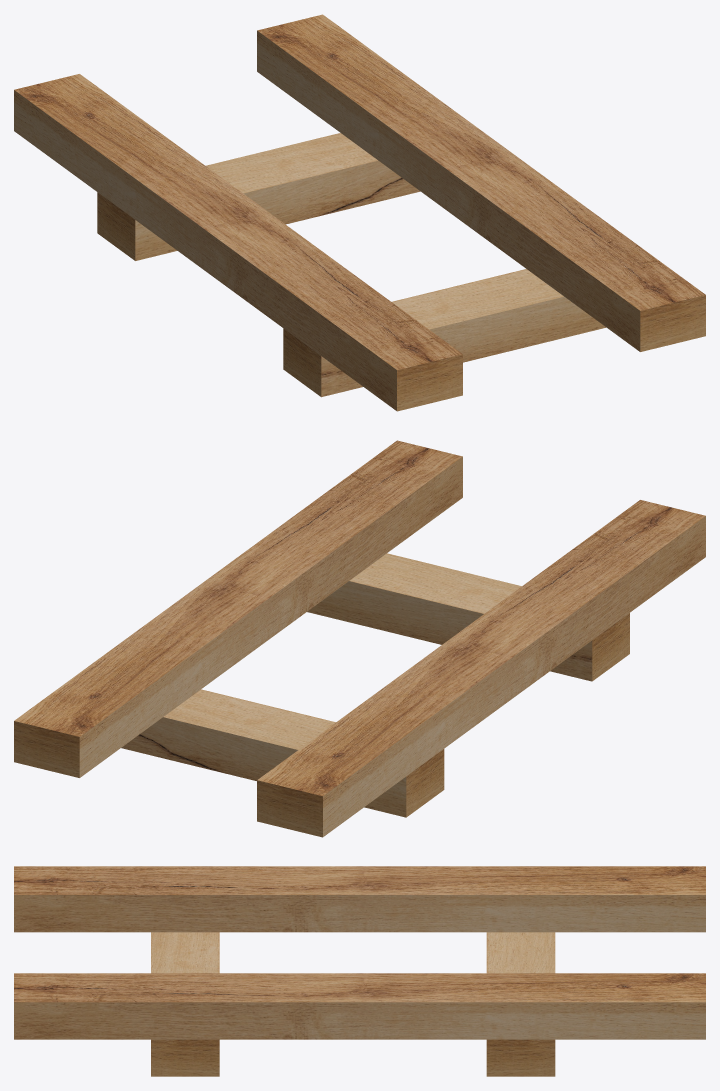
3 views of the same model, one above another, from view 1: azimuth 30°, elevation 25°; view 2: azimuth 150°, elevation 25°; view 3: azimuth 270°, elevation 25° (orthographic). The views are drawn at different scales.
Visible parts, largest first — view 1: tabla 1:1__Cuerpo1, tabla 1:1__Cuerpo1.001, tabla 2:1__Cuerpo1.001, tabla 2:1__Cuerpo1; view 2: tabla 1:1__Cuerpo1, tabla 1:1__Cuerpo1.001, tabla 2:1__Cuerpo1, tabla 2:1__Cuerpo1.001; view 3: tabla 1:1__Cuerpo1, tabla 1:1__Cuerpo1.001, tabla 2:1__Cuerpo1, tabla 2:1__Cuerpo1.001.
Part boxes in pixels (box(x1,y1,x2,y2)): tabla 1:1__Cuerpo1: box(14, 74, 462, 411); tabla 1:1__Cuerpo1.001: box(257, 14, 705, 351); tabla 2:1__Cuerpo1.001: box(283, 269, 606, 397); tabla 2:1__Cuerpo1: box(97, 133, 420, 260); tabla 1:1__Cuerpo1: box(257, 500, 705, 837); tabla 1:1__Cuerpo1.001: box(14, 440, 462, 777); tabla 2:1__Cuerpo1: box(121, 689, 444, 817); tabla 2:1__Cuerpo1.001: box(307, 553, 629, 681); tabla 1:1__Cuerpo1: box(14, 866, 705, 932); tabla 1:1__Cuerpo1.001: box(14, 973, 705, 1039); tabla 2:1__Cuerpo1: box(486, 932, 555, 1076); tabla 2:1__Cuerpo1.001: box(151, 932, 219, 1076).
Size of the model in its own units: 0.235 by 0.06 by 0.505.
1 material, 1 textured.
